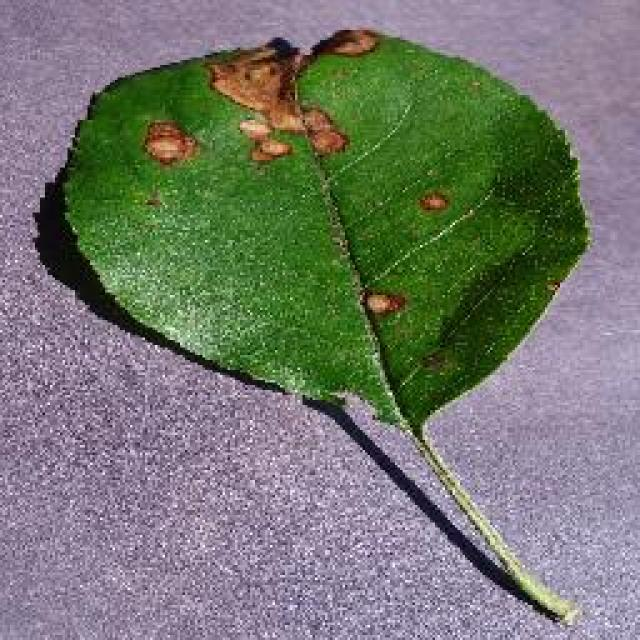Black_rot: (45, 25, 590, 627)
